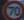Speed Limit -70-: (0, 0, 23, 19)
